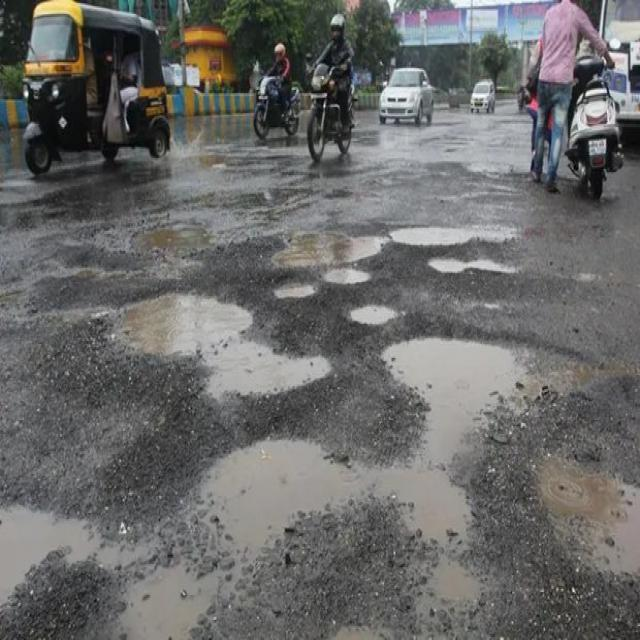Pothole: (374, 328, 616, 623), (102, 285, 337, 400), (199, 418, 368, 574), (539, 442, 639, 596), (7, 485, 97, 600), (122, 556, 219, 638), (268, 225, 386, 272), (127, 214, 220, 263), (390, 217, 524, 248), (427, 251, 532, 282), (200, 149, 263, 181), (66, 259, 116, 290), (351, 298, 402, 328), (266, 278, 319, 302), (319, 268, 370, 290)
